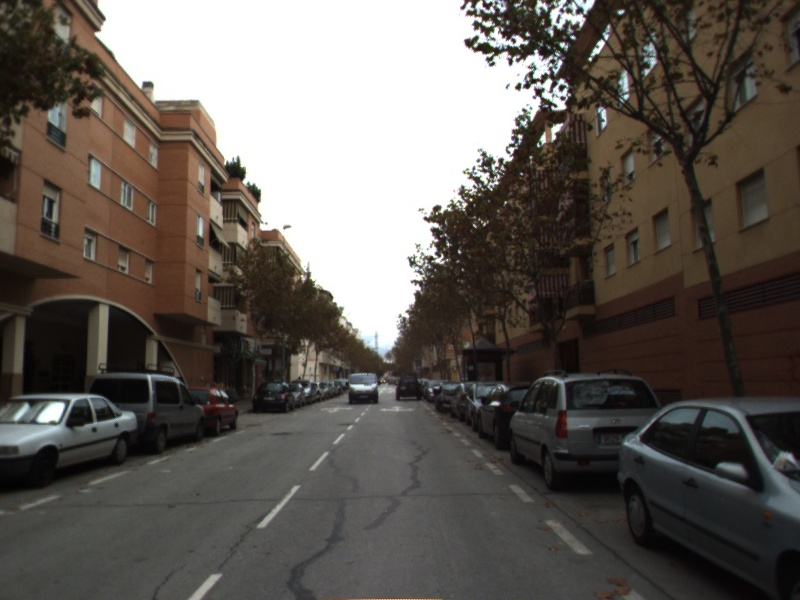STRAIGHT_LEFT_RIGHT: (377, 402, 418, 414)
